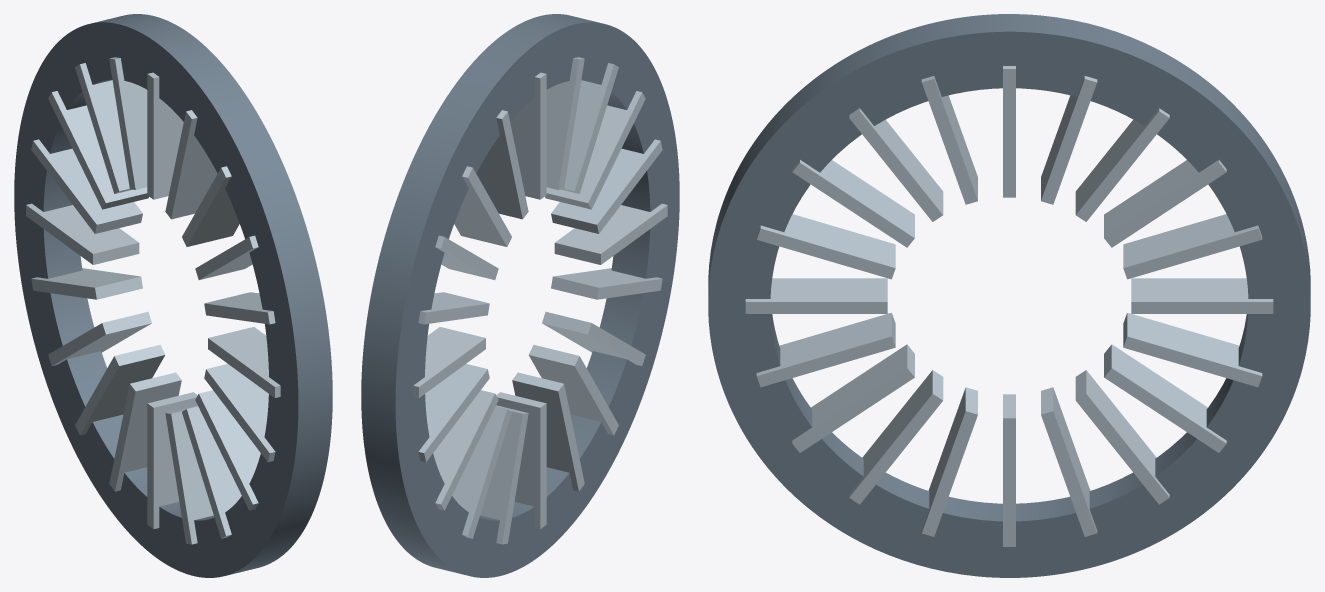
File: radial-diffuser.glb
3 renders of one model, left to right at view 1: azimuth 30°, elevation 25°; view 2: azimuth 150°, elevation 25°; view 3: azimuth 270°, elevation 25°, orthographic. The views are drawn at different scales.
Parts seen in each view (by area): view 1: radial-diffuser - shell, radial-diffuser - blade; view 2: radial-diffuser - shell, radial-diffuser - blade; view 3: radial-diffuser - shell, radial-diffuser - blade.
Boxes of the visible parts, x1,y1,x2,y2 form: radial-diffuser - shell: (14, 14, 332, 577); radial-diffuser - blade: (26, 57, 280, 544); radial-diffuser - shell: (361, 14, 679, 577); radial-diffuser - blade: (413, 57, 667, 544); radial-diffuser - shell: (708, 14, 1310, 577); radial-diffuser - blade: (745, 66, 1273, 546).
Size of the model in its own units: 0.195 by 2.08 by 2.08.
